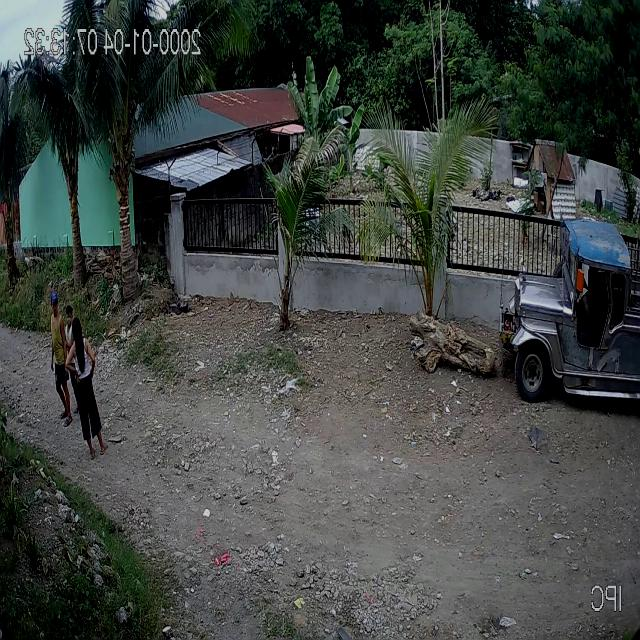standing: (65, 315, 108, 462), (47, 284, 79, 429), (65, 299, 85, 419)
